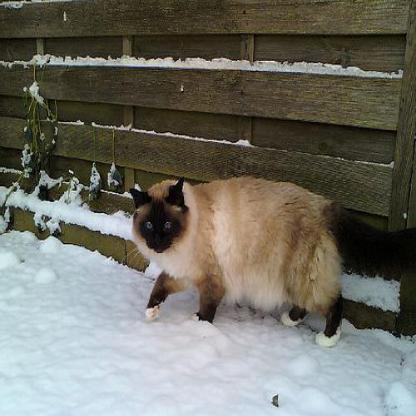cat: (129, 174, 344, 348)
